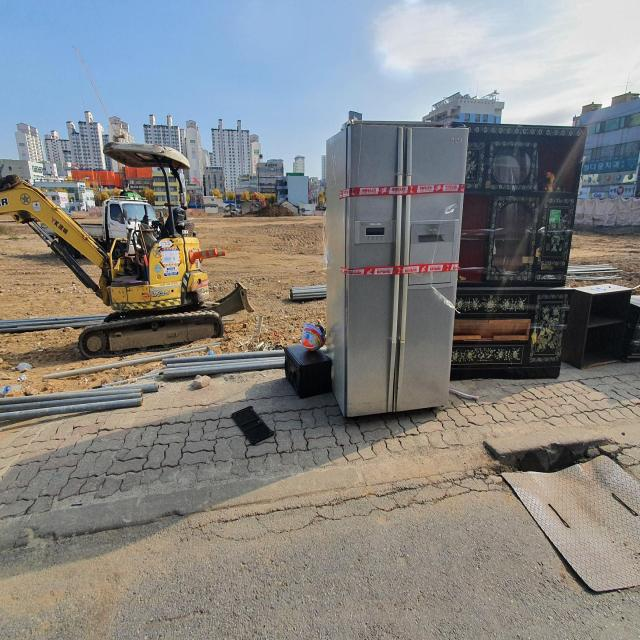refrigerator: (323, 117, 472, 423)
